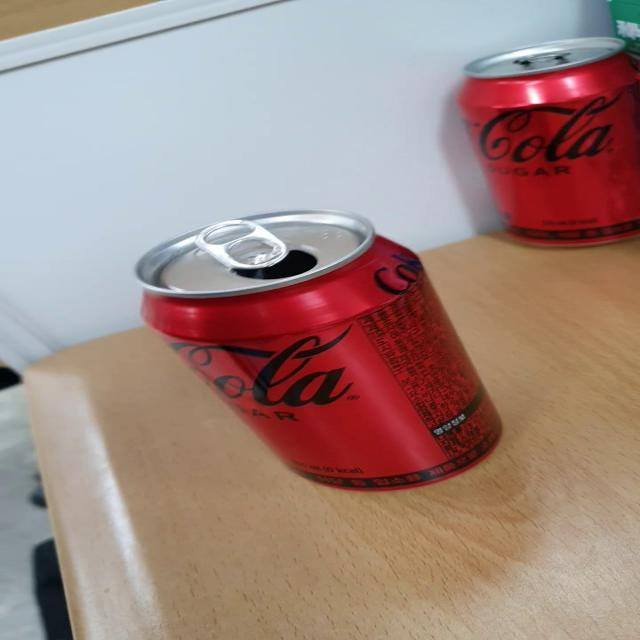coca-cola: (111, 198, 539, 494), (436, 31, 640, 252)
